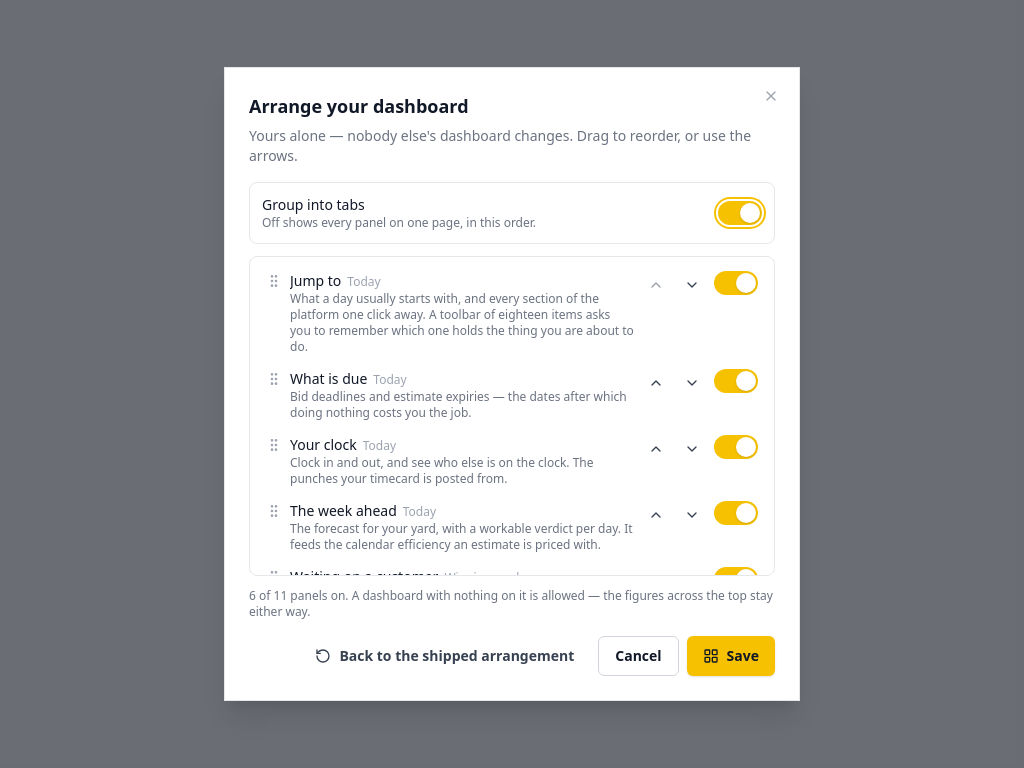
Scenario: arranging it › says what went wrong rather than closing
Click the button "Save" at (731, 656), box [687,636,775,676]
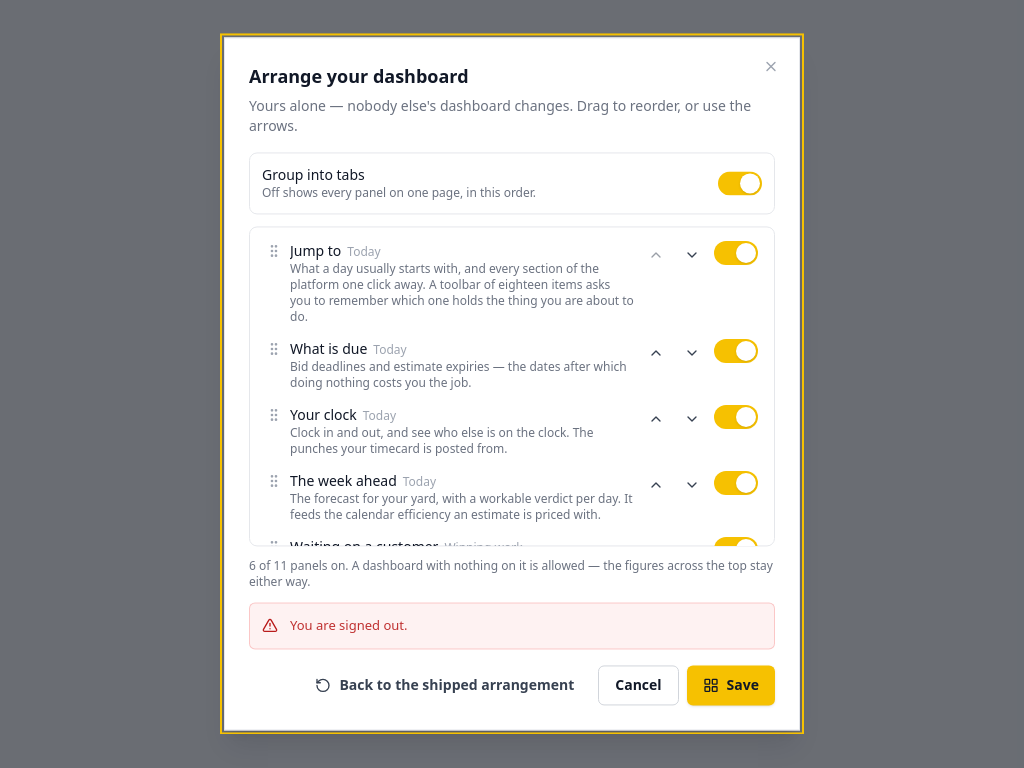
Check: the text "You are signed out." is shown, box [290,615,408,636]
